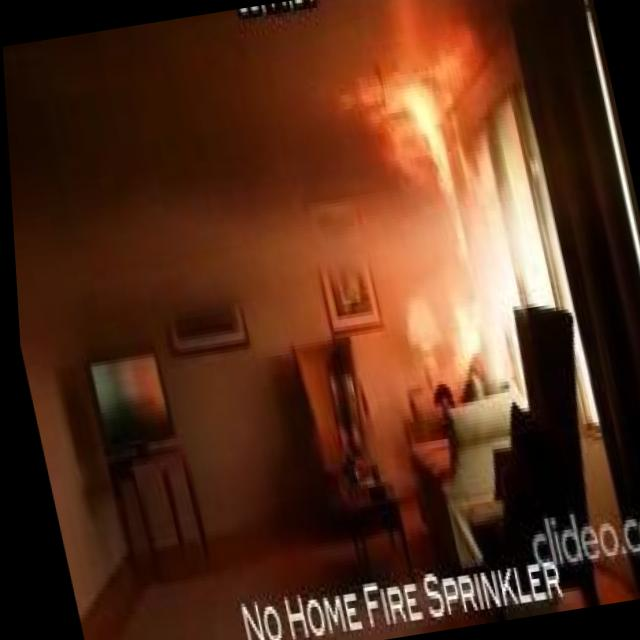fire: (359, 59, 455, 212), (441, 288, 483, 352)
